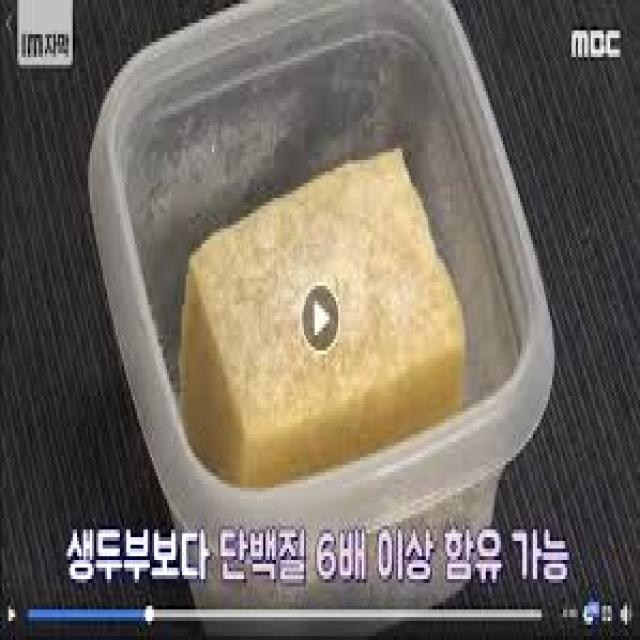tofu: (163, 117, 499, 492)
